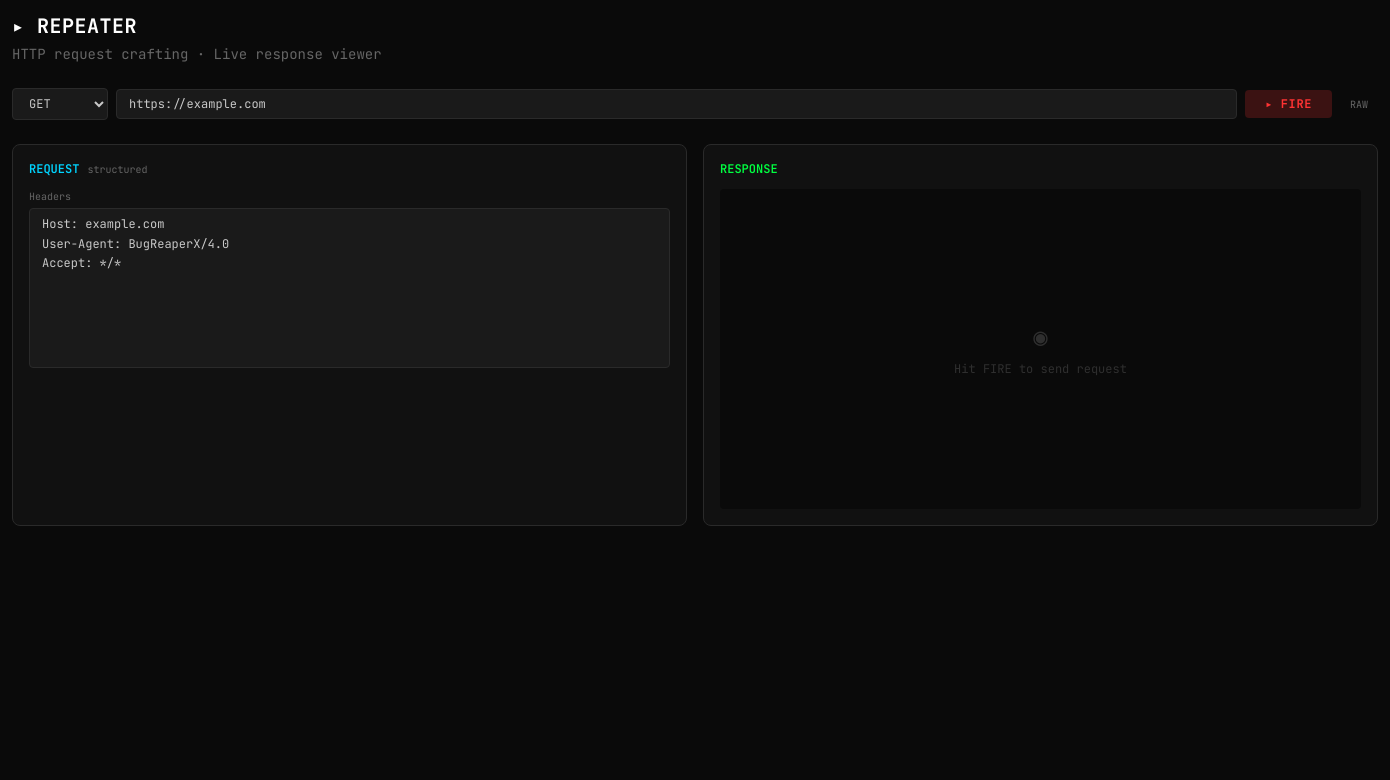
it: RepeaterPage › displays error when URL does not start with http
Step 1. Replace the text in the field with placeholder "https://target.com/path" with "ftp://bad.com" → (677, 104), box [116,89,1237,119]
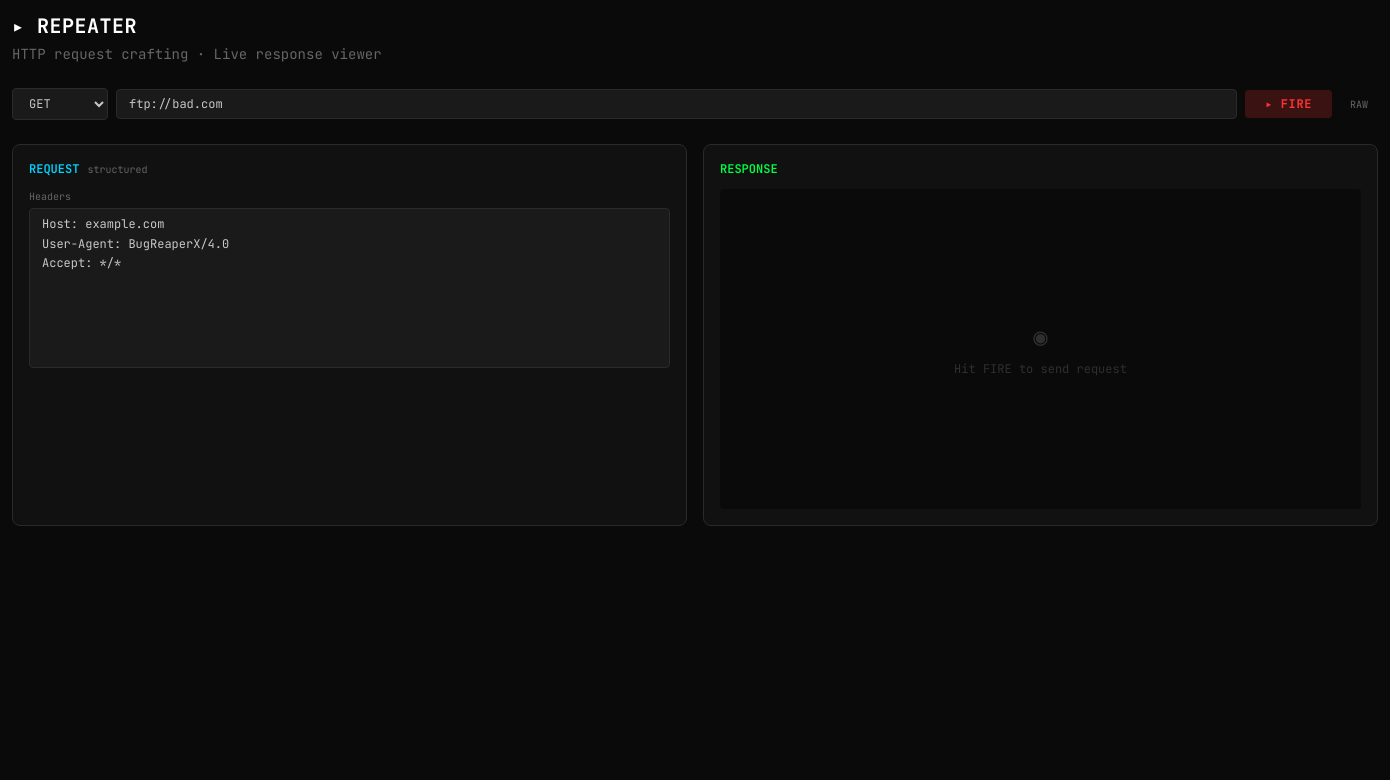
Step 2. Click the button "▸ FIRE" → (1289, 104), box [1245,90,1332,118]
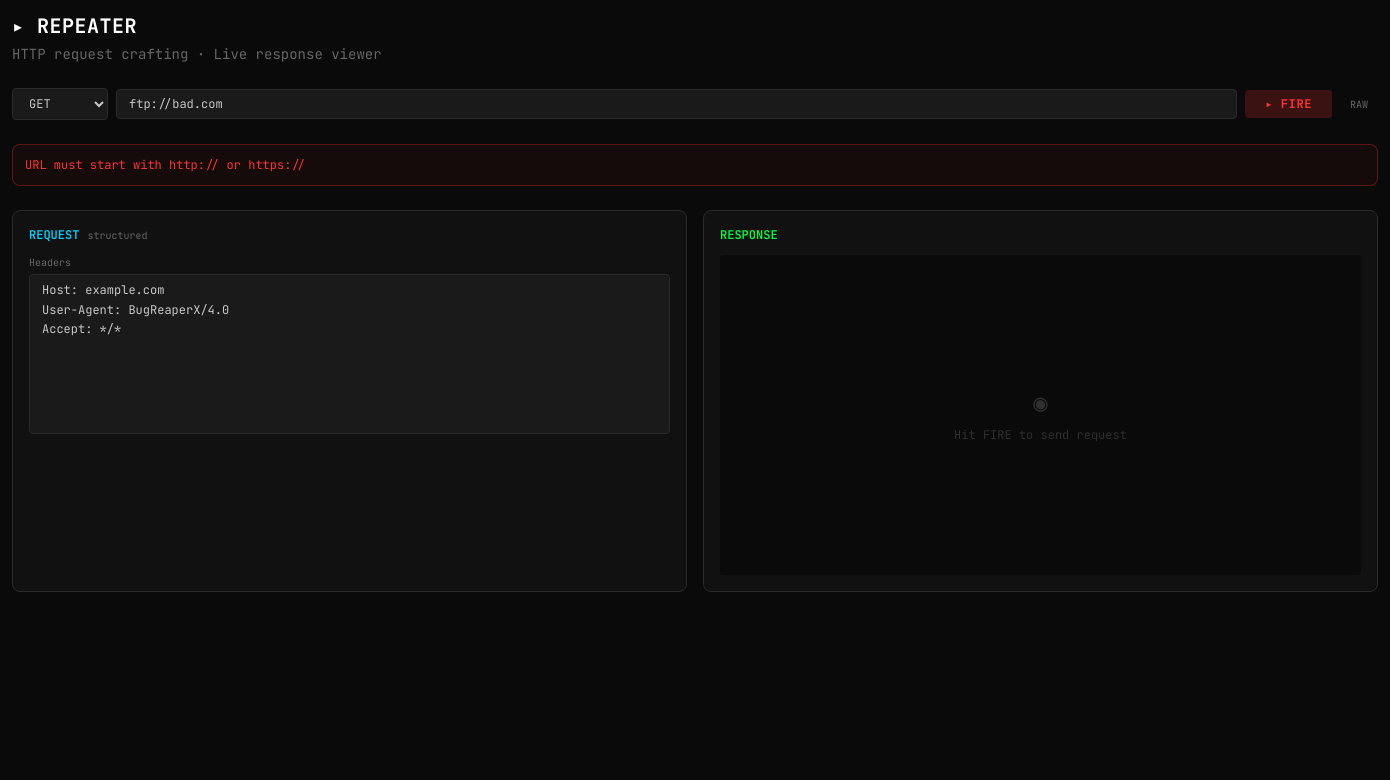
Now the text "URL must start with http:// or https://" is shown, box [25,157,306,173]
